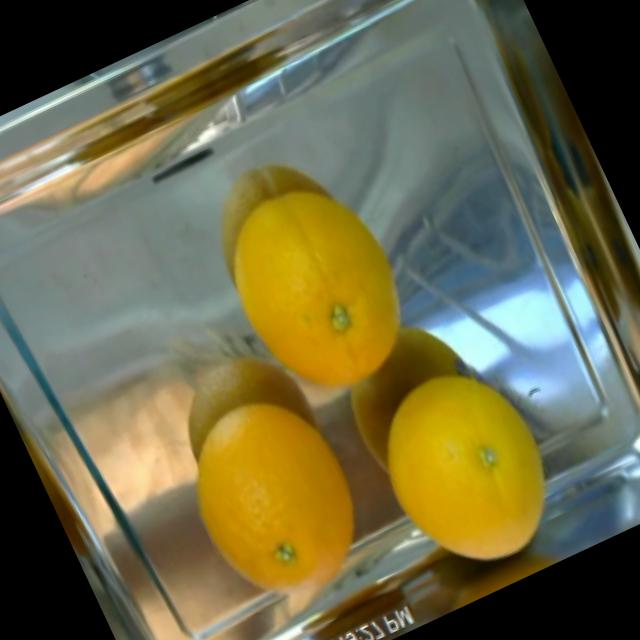Fruit: (353, 351, 609, 612)
